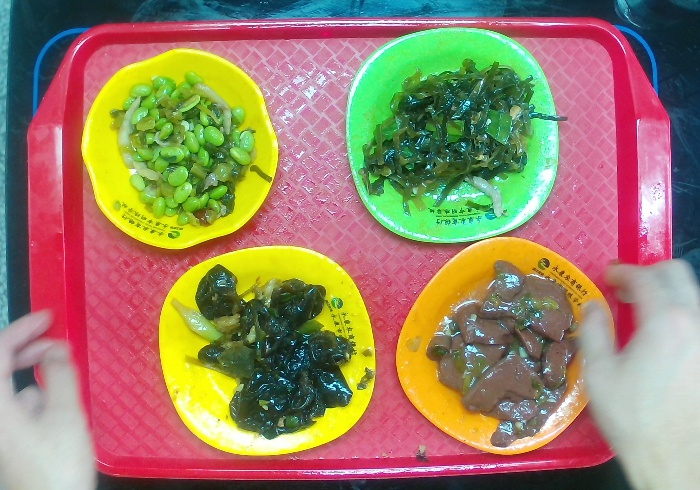YKMZ-Huang_Se_Ao_Bian_Wan: (77, 45, 281, 253)
YKMZ-Huang_Se_Fang_Die: (155, 241, 382, 461)
YKMZ-Ju_Se_Fang_Die: (391, 234, 621, 462)
YKMZ-Lv_Se_Fang_Die: (341, 24, 564, 246)
